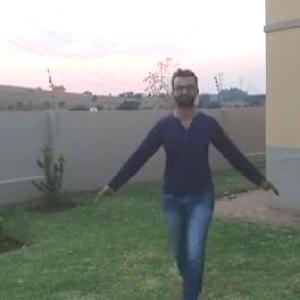land: (130, 86, 248, 290)
